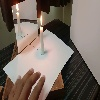fire: (39, 13, 43, 28)
